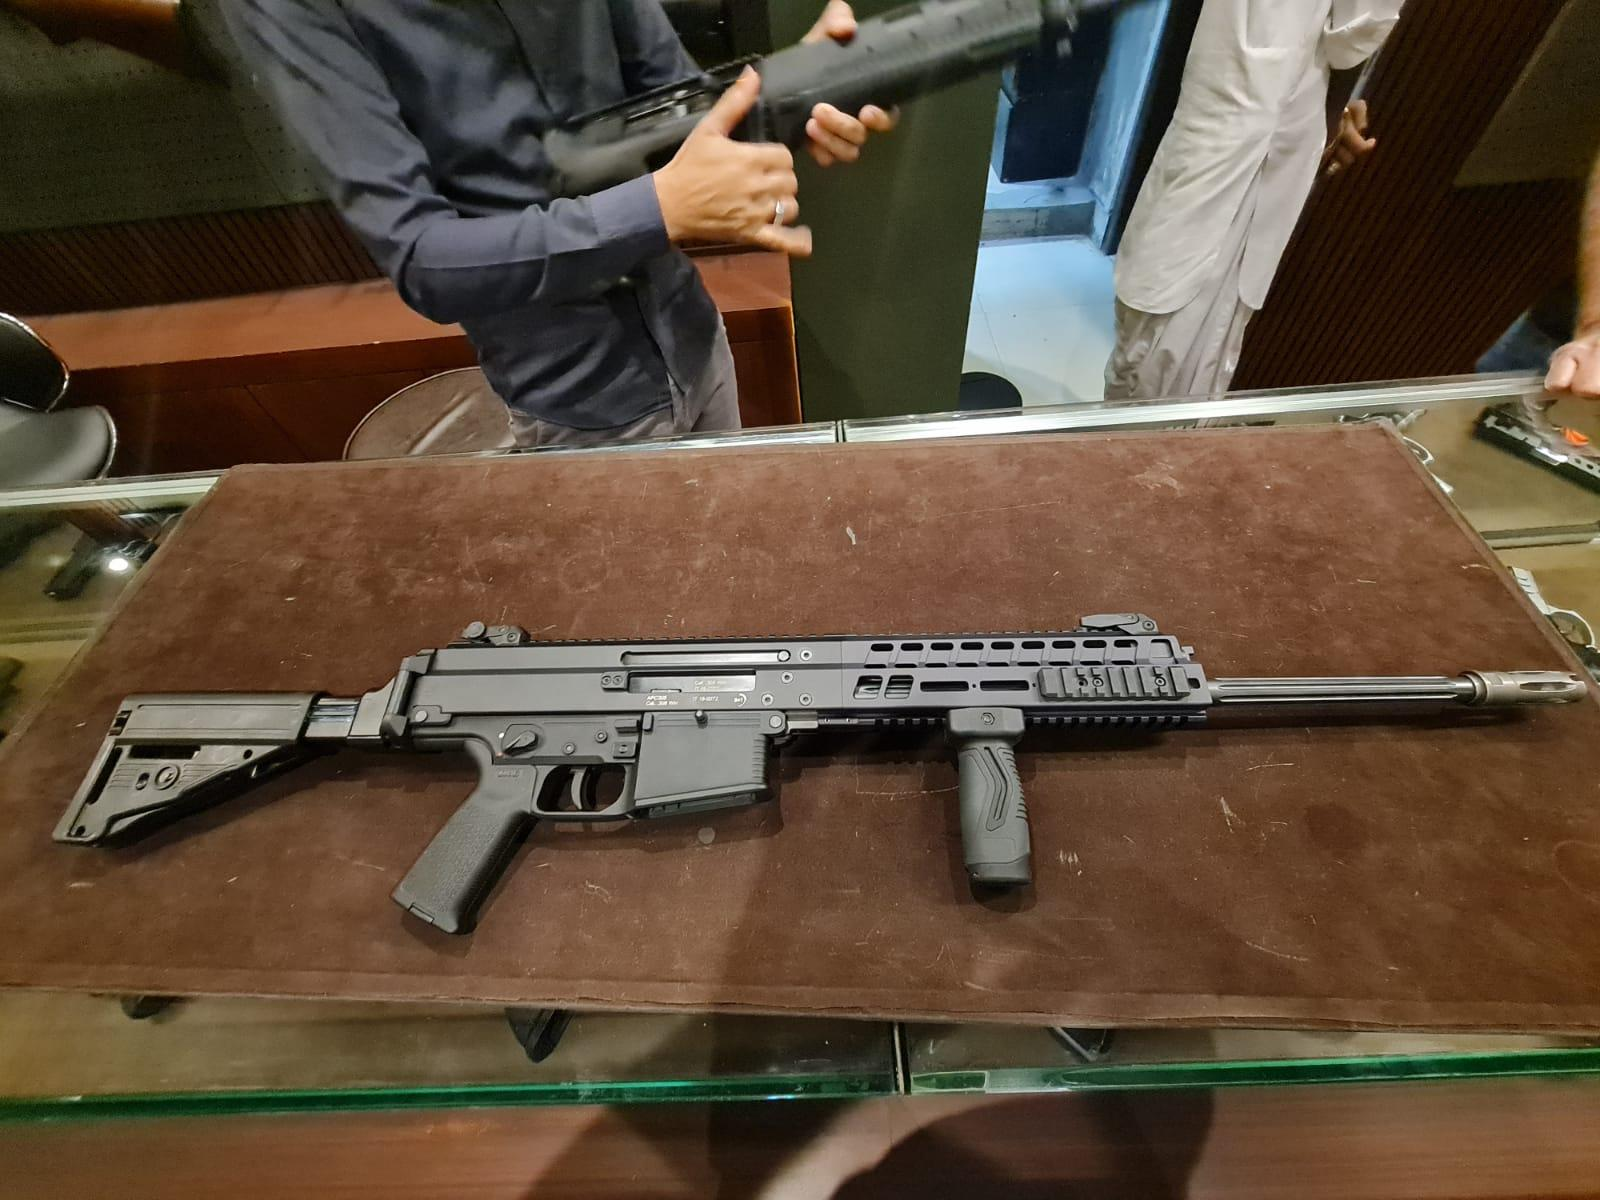weapon: (55, 613, 1589, 934)
